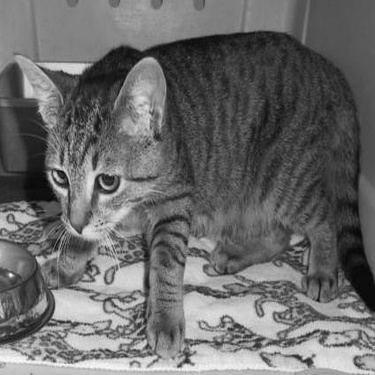cat: (14, 28, 371, 361)
